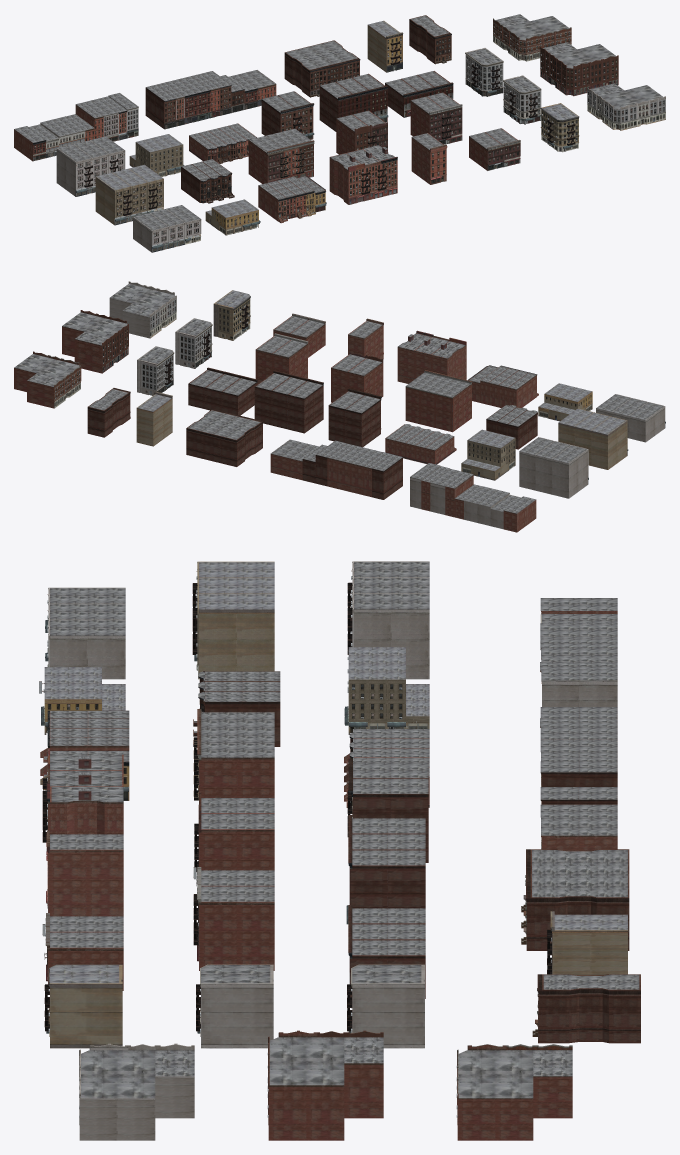
The picture shows the model from 3 angles, top to bottom: view 1: azimuth 30°, elevation 25°; view 2: azimuth 150°, elevation 25°; view 3: azimuth 270°, elevation 25°; orthographic projection. The views are drawn at different scales.
Visible parts, largest first — view 1: Brownstone_FlatFacade_9_C, Brownstone_FlatFacade_9, Brownstone_Harlem_1_B, Brownstone_Lowrise_1_B_Brownstone_Facade_Flr_3_0, Brownstone_FlatFacadeComplex_1_Brownstone_Facade_Flr_2_0, Brownstone_FlatFacade_2_Brownstone_Facade_Flr_3_0, Brownstone_FlatFacade_1_Brownstone_Facade_Flr_2_0, Brownstone_FlatFacade_6_Brownstone_Facade_Flr_1_0, Brownstone_FlatFacade_9_B, Brownstone_FlatFacadeComplex_2_Brownstone_Facade_Flr_4_0, Brownstone_Lowrise_1_C_Brownstone_Facade_Flr_4_0, Brownstone_Lowrise_1_Brownstone_Facade_Flr_3_0 (+28 smaller); view 2: Brownstone_FlatFacade_6_Brownstone_Facade_Flr_1_0, Brownstone_FlatFacade_9, Brownstone_FlatFacadeComplex_1_Brownstone_Facade_Flr_2_0, Brownstone_Harlem_1_B, Brownstone_FlatFacade_2_Brownstone_Facade_Flr_3_0, Brownstone_Lowrise_1_B_Brownstone_Facade_Flr_3_0, Brownstone_FlatFacade_9_C, Brownstone_FlatFacadeComplex_2_Brownstone_Facade_Flr_4_0, Brownstone_FlatFacade_1_Brownstone_Facade_Flr_2_0, Brownstone_Lowrise_1_Brownstone_Facade_Flr_3_0, Brownstone_Lowrise_1_C_Brownstone_Facade_Flr_4_0, Brownstone_FlatFacade_3_Brownstone_Facade_Flr_1_0 (+18 smaller); view 3: Brownstone_Lowrise_1_B_Brownstone_Facade_Flr_3_0, Brownstone_Lowrise_1_C_Brownstone_Facade_Flr_4_0, Brownstone_Lowrise_1_Brownstone_Facade_Flr_3_0, Brownstone_FlatFacade_9_C, Brownstone_Harlem_1_B, Brownstone_FlatFacade_9, Brownstone_FlatFacade_7_Brownstone_Facade_Flr_3_Dif_0, Brownstone_Harlem_1, Brownstone_FlatFacade_6_Brownstone_Facade_Flr_1_0, Brownstone_FlatFacadeComplex_1_Brownstone_Facade_Flr_2_0, Brownstone_FlatFacade_9_B, Brownstone_FlatFacade_2_Brownstone_Facade_Flr_3_0 (+18 smaller).
Part boxes in pixels (<box>): Brownstone_FlatFacade_9_C: <box>95,164,163,225</box>; Brownstone_FlatFacade_9: <box>56,136,125,196</box>; Brownstone_Harlem_1_B: <box>284,40,360,97</box>; Brownstone_Lowrise_1_B_Brownstone_Facade_Flr_3_0: <box>540,42,618,89</box>; Brownstone_FlatFacadeComplex_1_Brownstone_Facade_Flr_2_0: <box>157,70,276,119</box>; Brownstone_FlatFacade_2_Brownstone_Facade_Flr_3_0: <box>248,128,314,183</box>; Brownstone_FlatFacade_1_Brownstone_Facade_Flr_2_0: <box>329,145,397,204</box>; Brownstone_FlatFacade_6_Brownstone_Facade_Flr_1_0: <box>319,73,387,131</box>; Brownstone_FlatFacade_9_B: <box>133,205,201,252</box>; Brownstone_FlatFacadeComplex_2_Brownstone_Facade_Flr_4_0: <box>29,93,138,153</box>; Brownstone_Lowrise_1_C_Brownstone_Facade_Flr_4_0: <box>587,83,665,123</box>; Brownstone_Lowrise_1_Brownstone_Facade_Flr_3_0: <box>493,14,571,54</box>; Brownstone_FlatFacade_6_Brownstone_Facade_Flr_1_0: <box>254,370,323,433</box>; Brownstone_FlatFacade_9: <box>519,437,588,498</box>; Brownstone_FlatFacadeComplex_1_Brownstone_Facade_Flr_2_0: <box>270,439,391,497</box>; Brownstone_Harlem_1_B: <box>186,409,262,466</box>; Brownstone_FlatFacade_2_Brownstone_Facade_Flr_3_0: <box>405,370,472,432</box>; Brownstone_Lowrise_1_B_Brownstone_Facade_Flr_3_0: <box>62,310,128,373</box>; Brownstone_FlatFacade_9_C: <box>558,408,628,469</box>; Brownstone_FlatFacadeComplex_2_Brownstone_Facade_Flr_4_0: <box>410,463,520,529</box>; Brownstone_FlatFacade_1_Brownstone_Facade_Flr_2_0: <box>397,330,466,383</box>; Brownstone_Lowrise_1_Brownstone_Facade_Flr_3_0: <box>14,351,81,408</box>; Brownstone_Lowrise_1_C_Brownstone_Facade_Flr_4_0: <box>109,281,176,338</box>; Brownstone_FlatFacade_3_Brownstone_Facade_Flr_1_0: <box>328,388,381,447</box>; Brownstone_Lowrise_1_B_Brownstone_Facade_Flr_3_0: <box>268,1030,383,1140</box>; Brownstone_Lowrise_1_C_Brownstone_Facade_Flr_4_0: <box>79,1043,194,1140</box>; Brownstone_Lowrise_1_Brownstone_Facade_Flr_3_0: <box>457,1044,572,1140</box>; Brownstone_FlatFacade_9_C: <box>192,561,274,679</box>; Brownstone_Harlem_1_B: <box>521,849,629,950</box>; Brownstone_FlatFacade_9: <box>347,561,429,679</box>; Brownstone_FlatFacade_7_Brownstone_Facade_Flr_3_Dif_0: <box>197,867,274,970</box>; Brownstone_Harlem_1: <box>532,974,640,1043</box>; Brownstone_FlatFacade_6_Brownstone_Facade_Flr_1_0: <box>348,815,425,908</box>; Brownstone_FlatFacadeComplex_1_Brownstone_Facade_Flr_2_0: <box>540,718,617,850</box>; Brownstone_FlatFacade_9_B: <box>45,587,125,679</box>; Brownstone_FlatFacade_2_Brownstone_Facade_Flr_3_0: <box>197,709,274,797</box>.
Size of the model in its own units: 319 by 22.79 by 159.
Materials: 14 (14 with a texture image).
